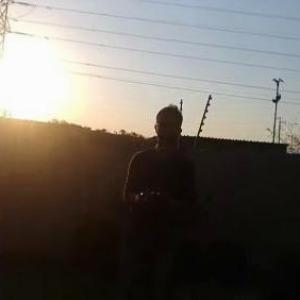follow: (118, 100, 198, 299)
